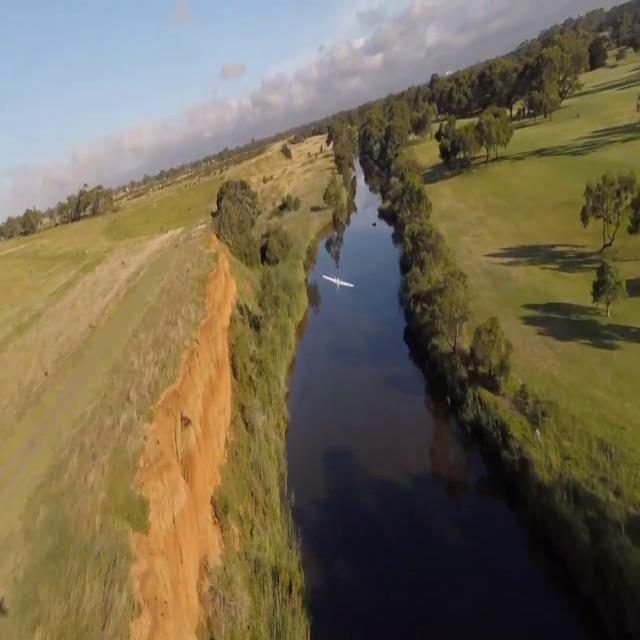iha: (321, 271, 357, 291)
